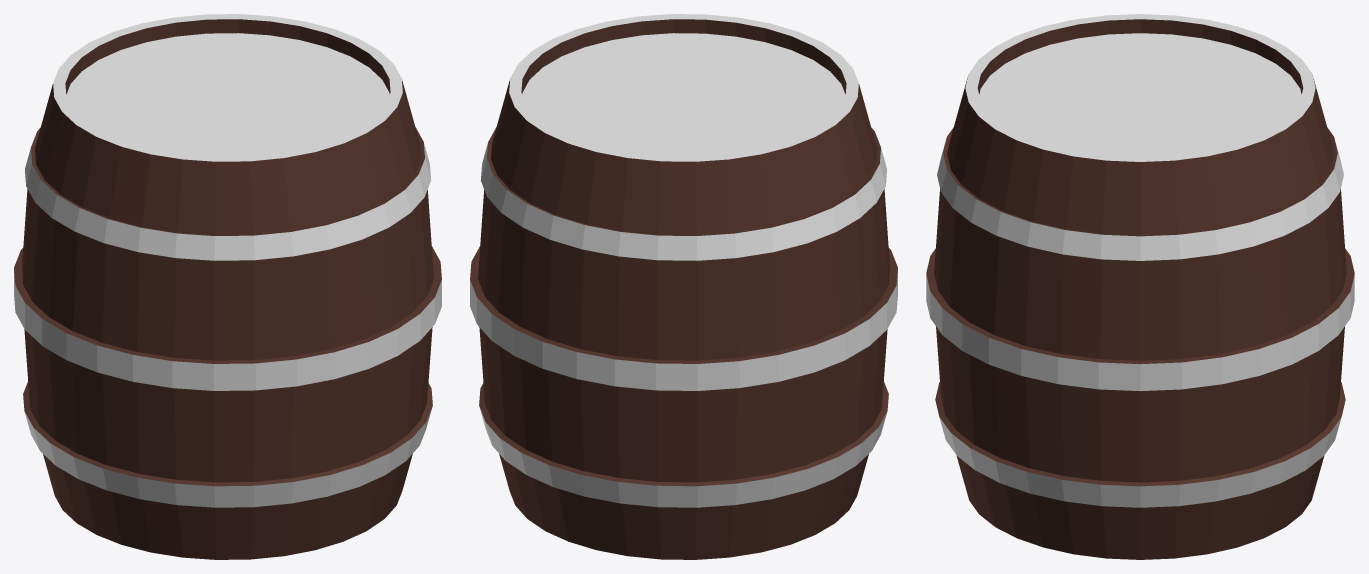
Rendered from barrel.fbx.
The picture shows the model from 3 angles, left to right: view 1: azimuth 30°, elevation 25°; view 2: azimuth 150°, elevation 25°; view 3: azimuth 270°, elevation 25°; orthographic projection.
Parts seen in each view (by area): view 1: Barrel; view 2: Barrel; view 3: Barrel.
Part boxes in pixels (<box>): Barrel: <box>14,14,441,559</box>; Barrel: <box>470,14,897,559</box>; Barrel: <box>926,14,1354,559</box>.
Bounding box in the file's own units: 341 × 350 × 341.
